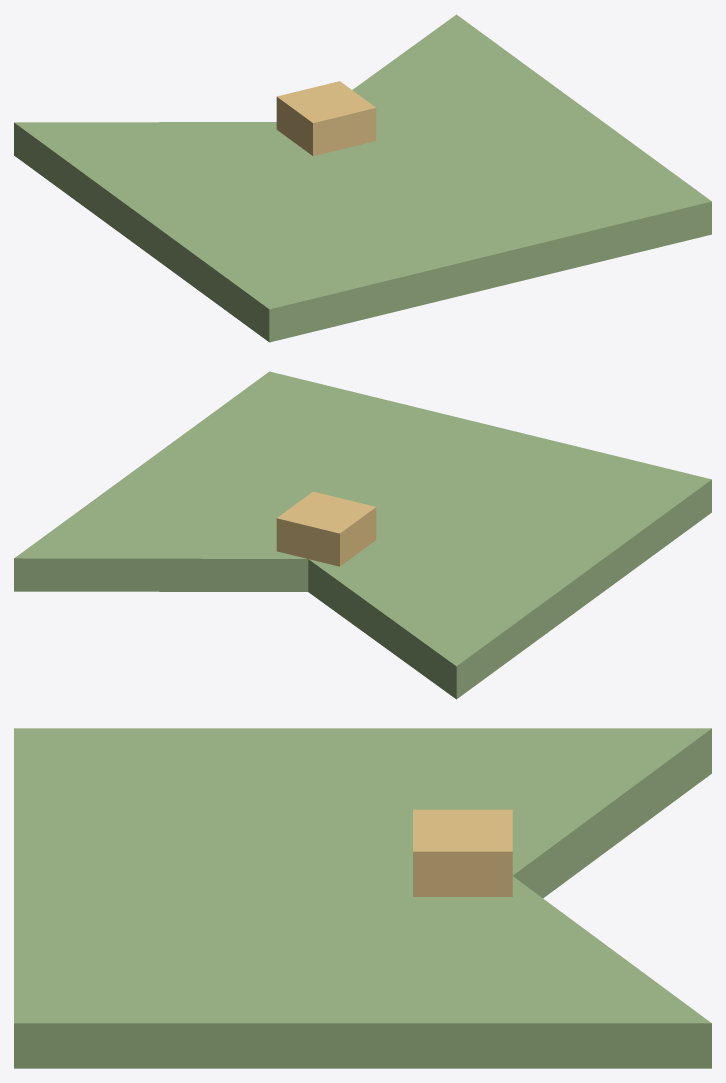
File: Nirch Lily.fbx
3 views of the same model, one above another, from view 1: azimuth 30°, elevation 25°; view 2: azimuth 150°, elevation 25°; view 3: azimuth 270°, elevation 25° (orthographic). The views are drawn at different scales.
Visible parts, largest first — view 1: Nirch Lily, Nirch Lily Flower; view 2: Nirch Lily, Nirch Lily Flower; view 3: Nirch Lily, Nirch Lily Flower.
Boxes of the visible parts, x1=… form: Nirch Lily: x1=14, y1=14, x2=711, y2=342; Nirch Lily Flower: x1=276, y1=81, x2=376, y2=156; Nirch Lily: x1=14, y1=371, x2=711, y2=699; Nirch Lily Flower: x1=276, y1=491, x2=376, y2=566; Nirch Lily: x1=14, y1=728, x2=711, y2=1068; Nirch Lily Flower: x1=413, y1=809, x2=512, y2=896.
Size of the model in its own units: 70 by 10 by 70.
